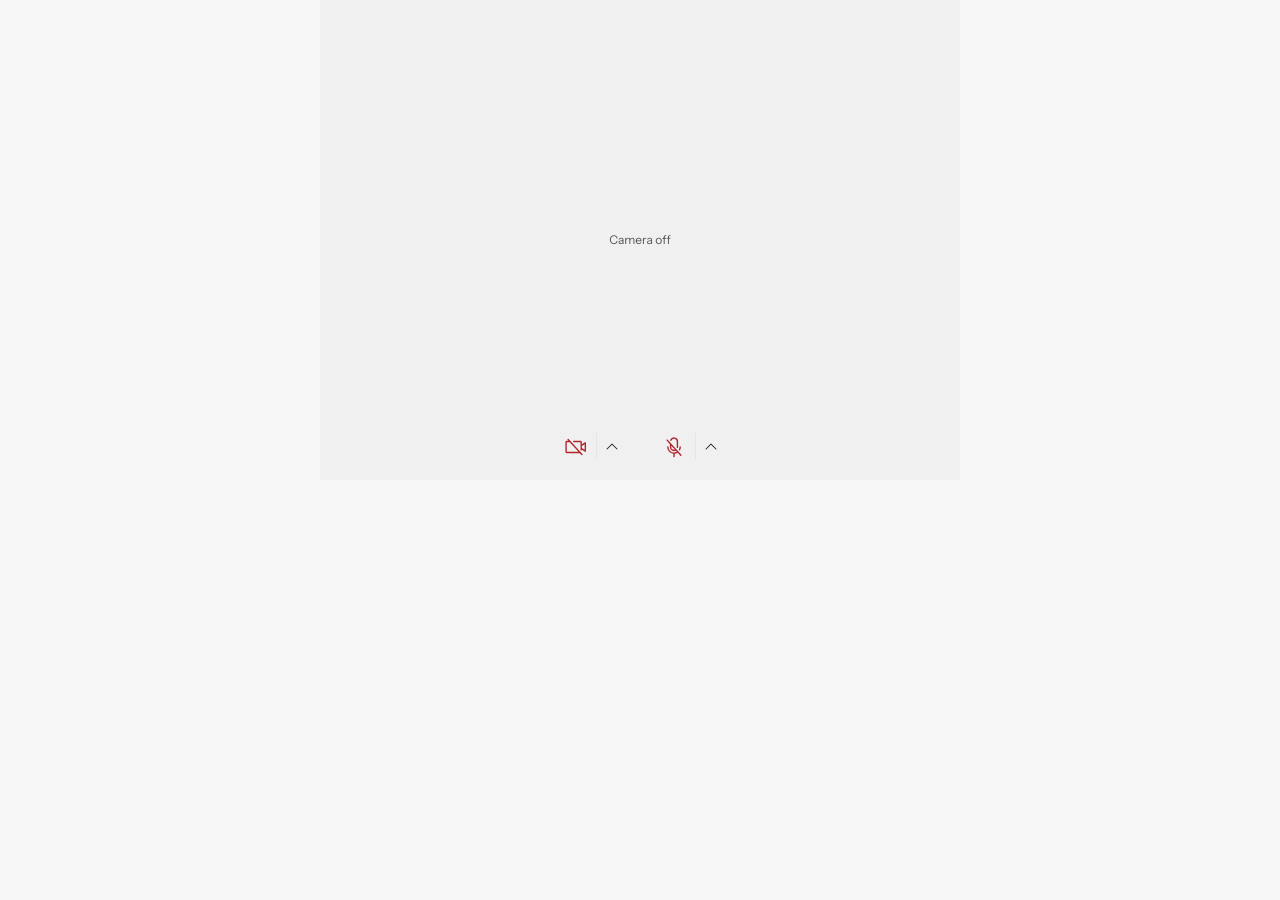
media controls acceptance › disables the camera group when capture is unsupported
The width and height of the screenshot is (1280, 900).
Click the button named "Turn on camera": (575, 447) [553,425,597,469]
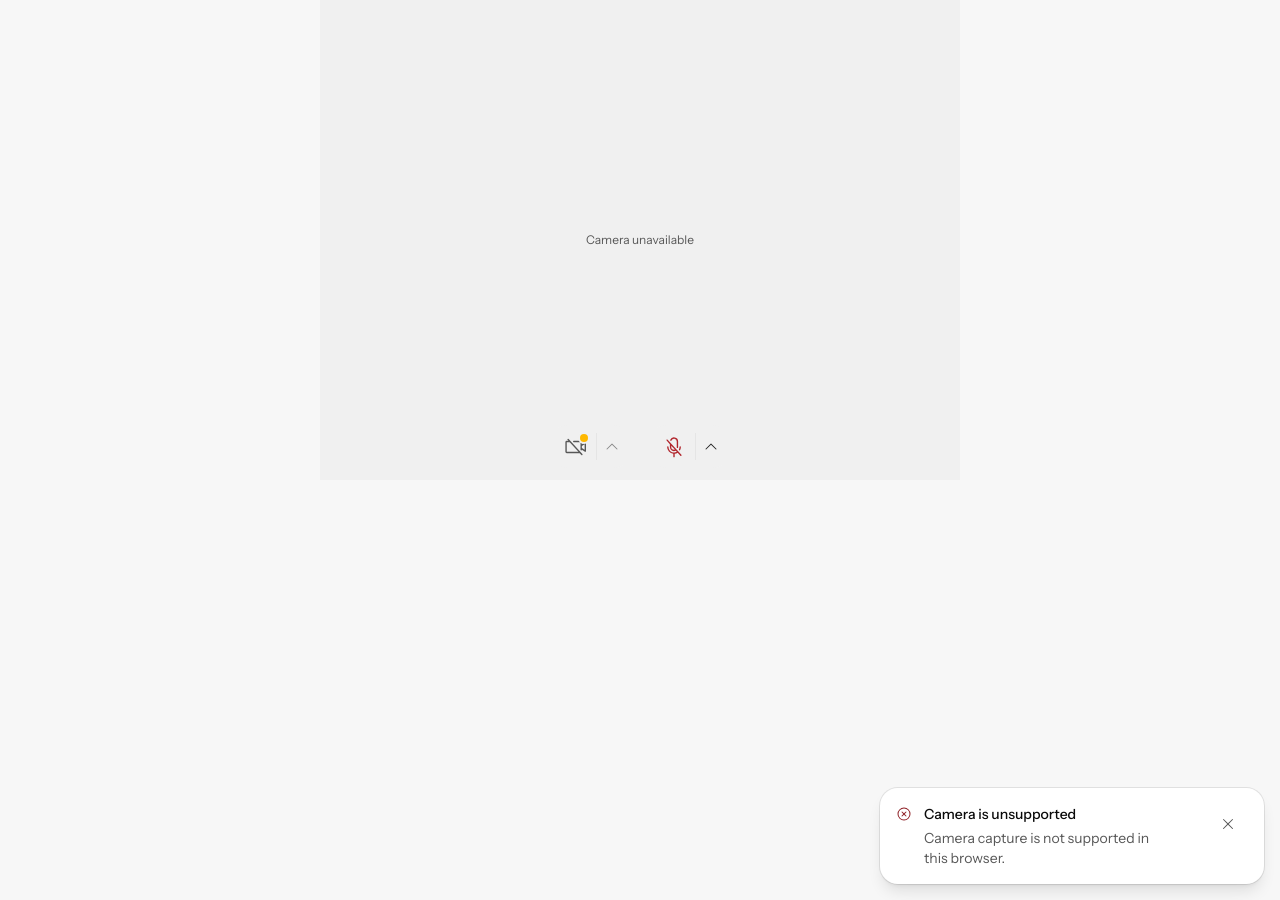
Expected: the button named "Open camera settings" is disabled, [597,425,628,469]
Result: the button named "Camera unsupported" is disabled at [553,425,597,469]
